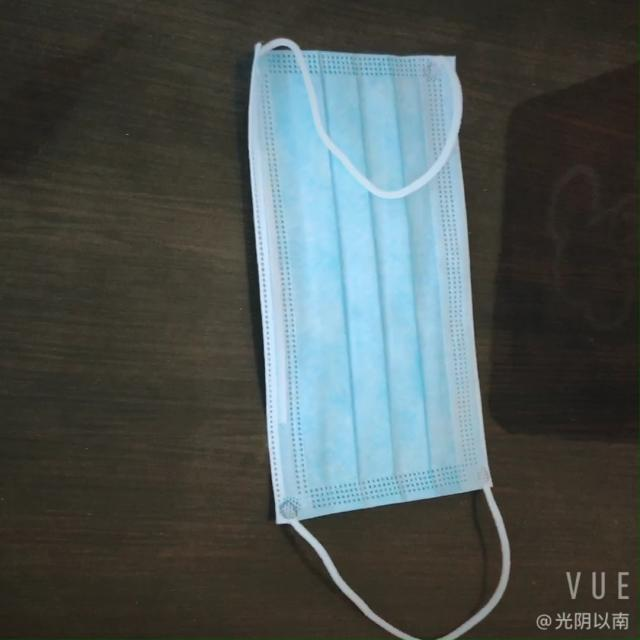face mask: (242, 48, 489, 544)
